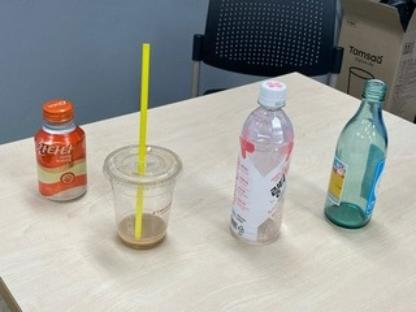Others: (323, 80, 389, 230), (36, 99, 88, 203)
Plastic Bottle: (228, 82, 294, 247)
Plastic Cup: (104, 142, 182, 250)
